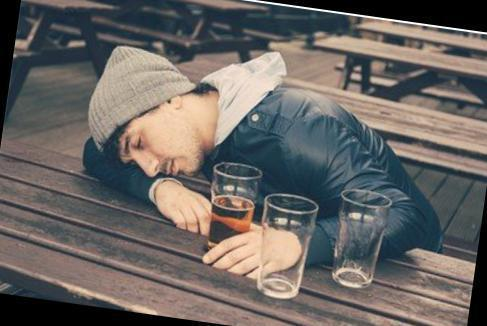Drunk: (117, 119, 206, 181)
